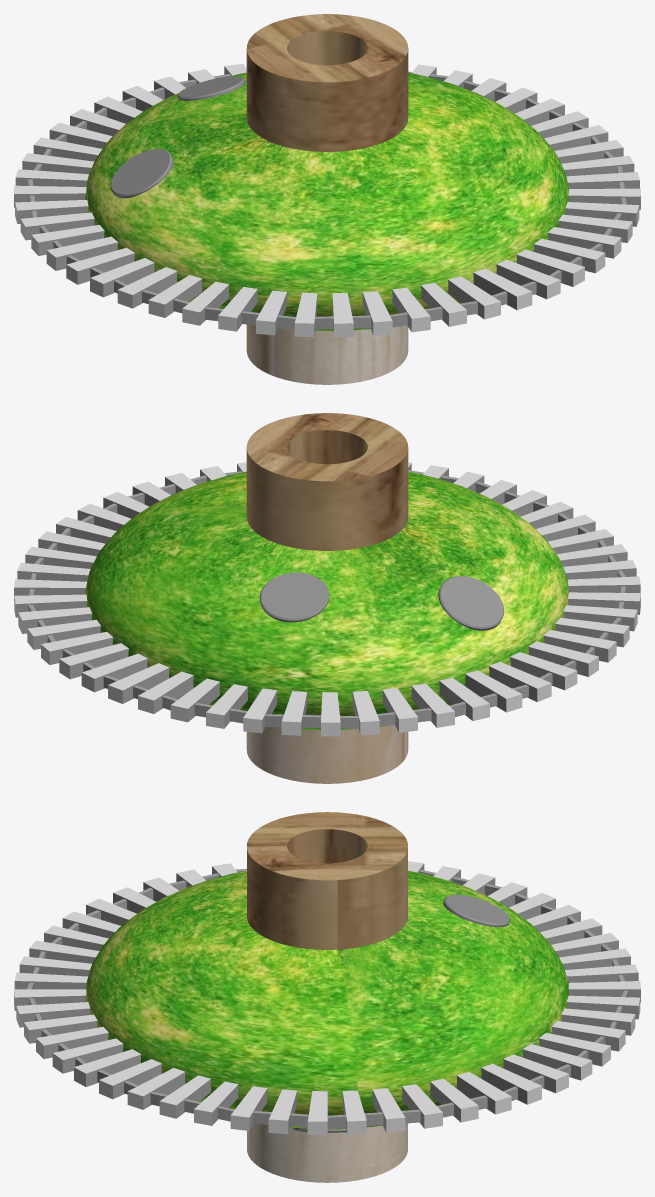
Rendered from first_Stage.fbx.
The picture shows the model from 3 angles, top to bottom: view 1: azimuth 30°, elevation 25°; view 2: azimuth 150°, elevation 25°; view 3: azimuth 270°, elevation 25°; orthographic projection.
Parts seen in each view (by area): view 1: pCylinder9; view 2: pCylinder9; view 3: pCylinder9.
Part boxes in pixels (box(x1,y1,x2,y2)): pCylinder9: box(14, 14, 640, 384); pCylinder9: box(14, 413, 640, 783); pCylinder9: box(14, 812, 640, 1182).
Bounding box in the file's own units: 77.61 × 41.32 × 77.61.
6 materials, 3 textured.
